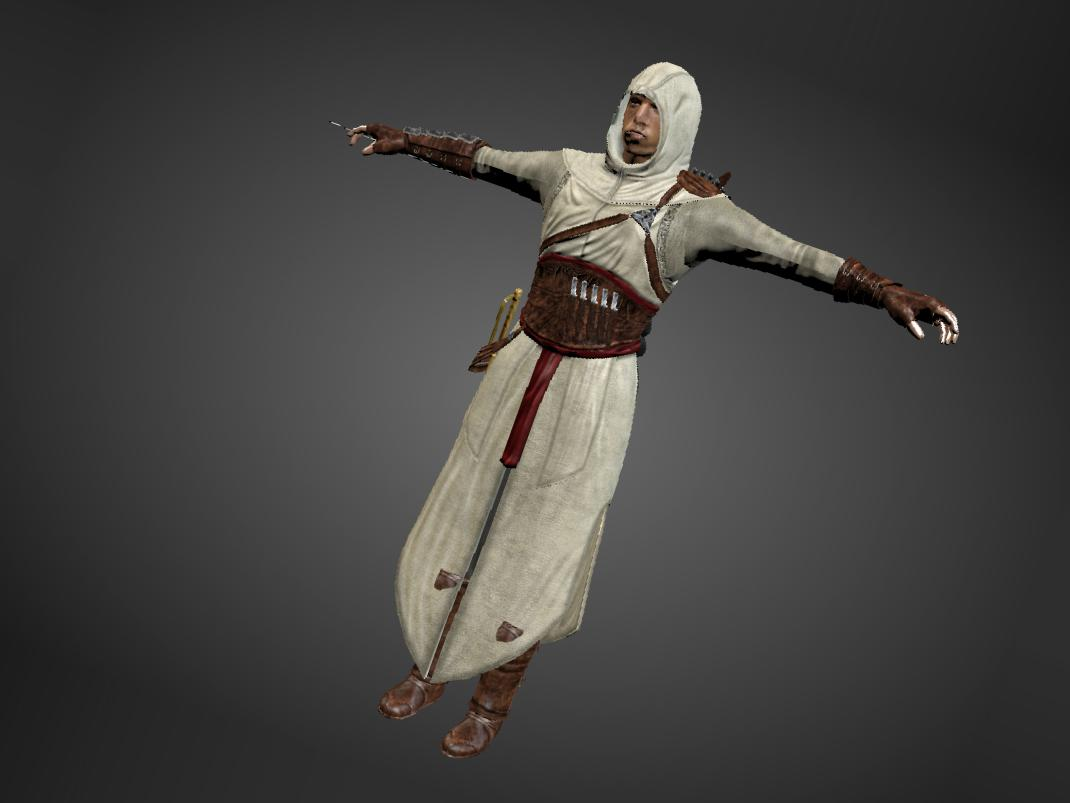clip: (491, 615, 522, 646), (436, 568, 463, 595)
